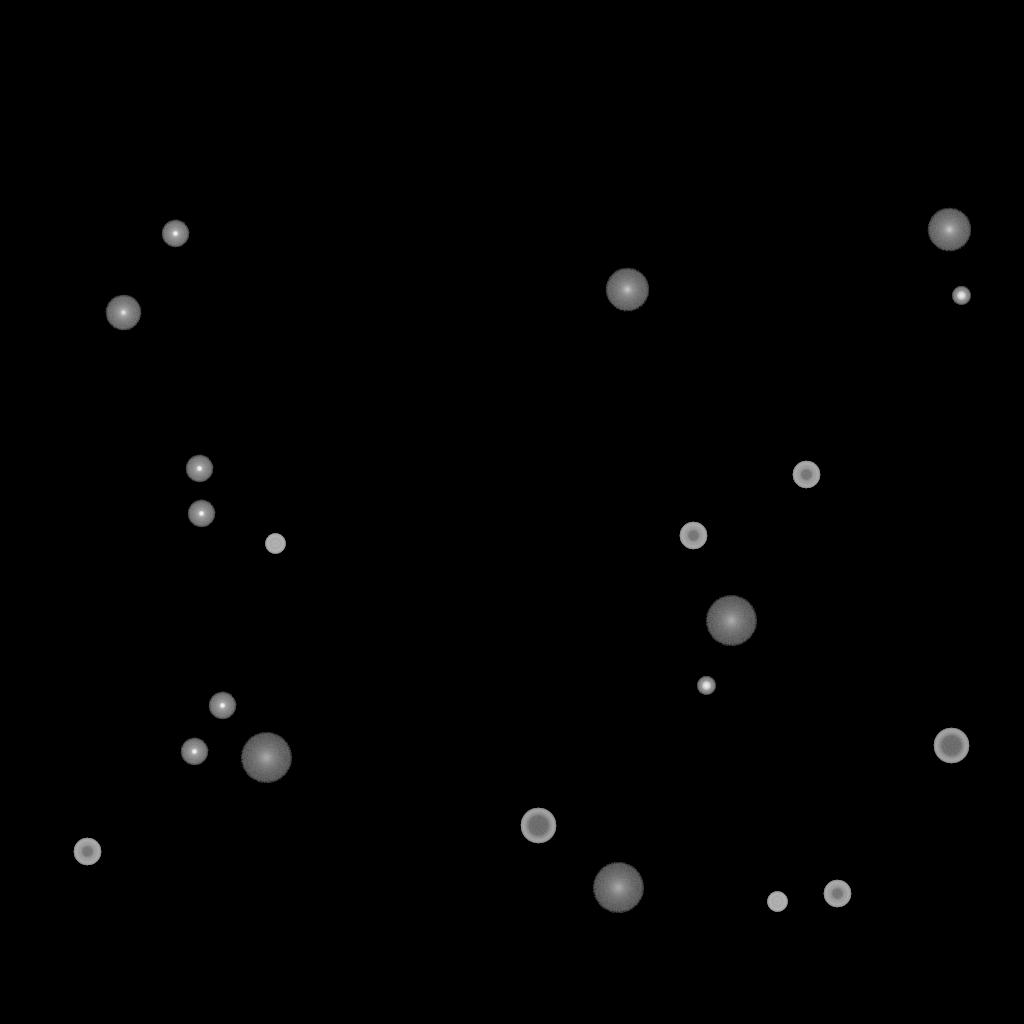depth:-10: (161, 220, 189, 248), (208, 692, 236, 720), (185, 455, 213, 483), (187, 500, 215, 528), (180, 738, 208, 766)
depth:-20: (952, 287, 970, 305), (697, 677, 715, 695)
depth:-40: (265, 534, 285, 554), (767, 892, 787, 912)
depth:-50: (679, 522, 707, 550), (823, 880, 851, 908), (73, 838, 101, 866), (792, 461, 820, 489)
depth:-60: (520, 808, 556, 844), (933, 728, 969, 764)
depth:0: (105, 295, 141, 331)
depth:10: (605, 268, 649, 312), (927, 208, 971, 252)
depth:20: (705, 596, 757, 646), (240, 733, 292, 783), (592, 863, 644, 913)
